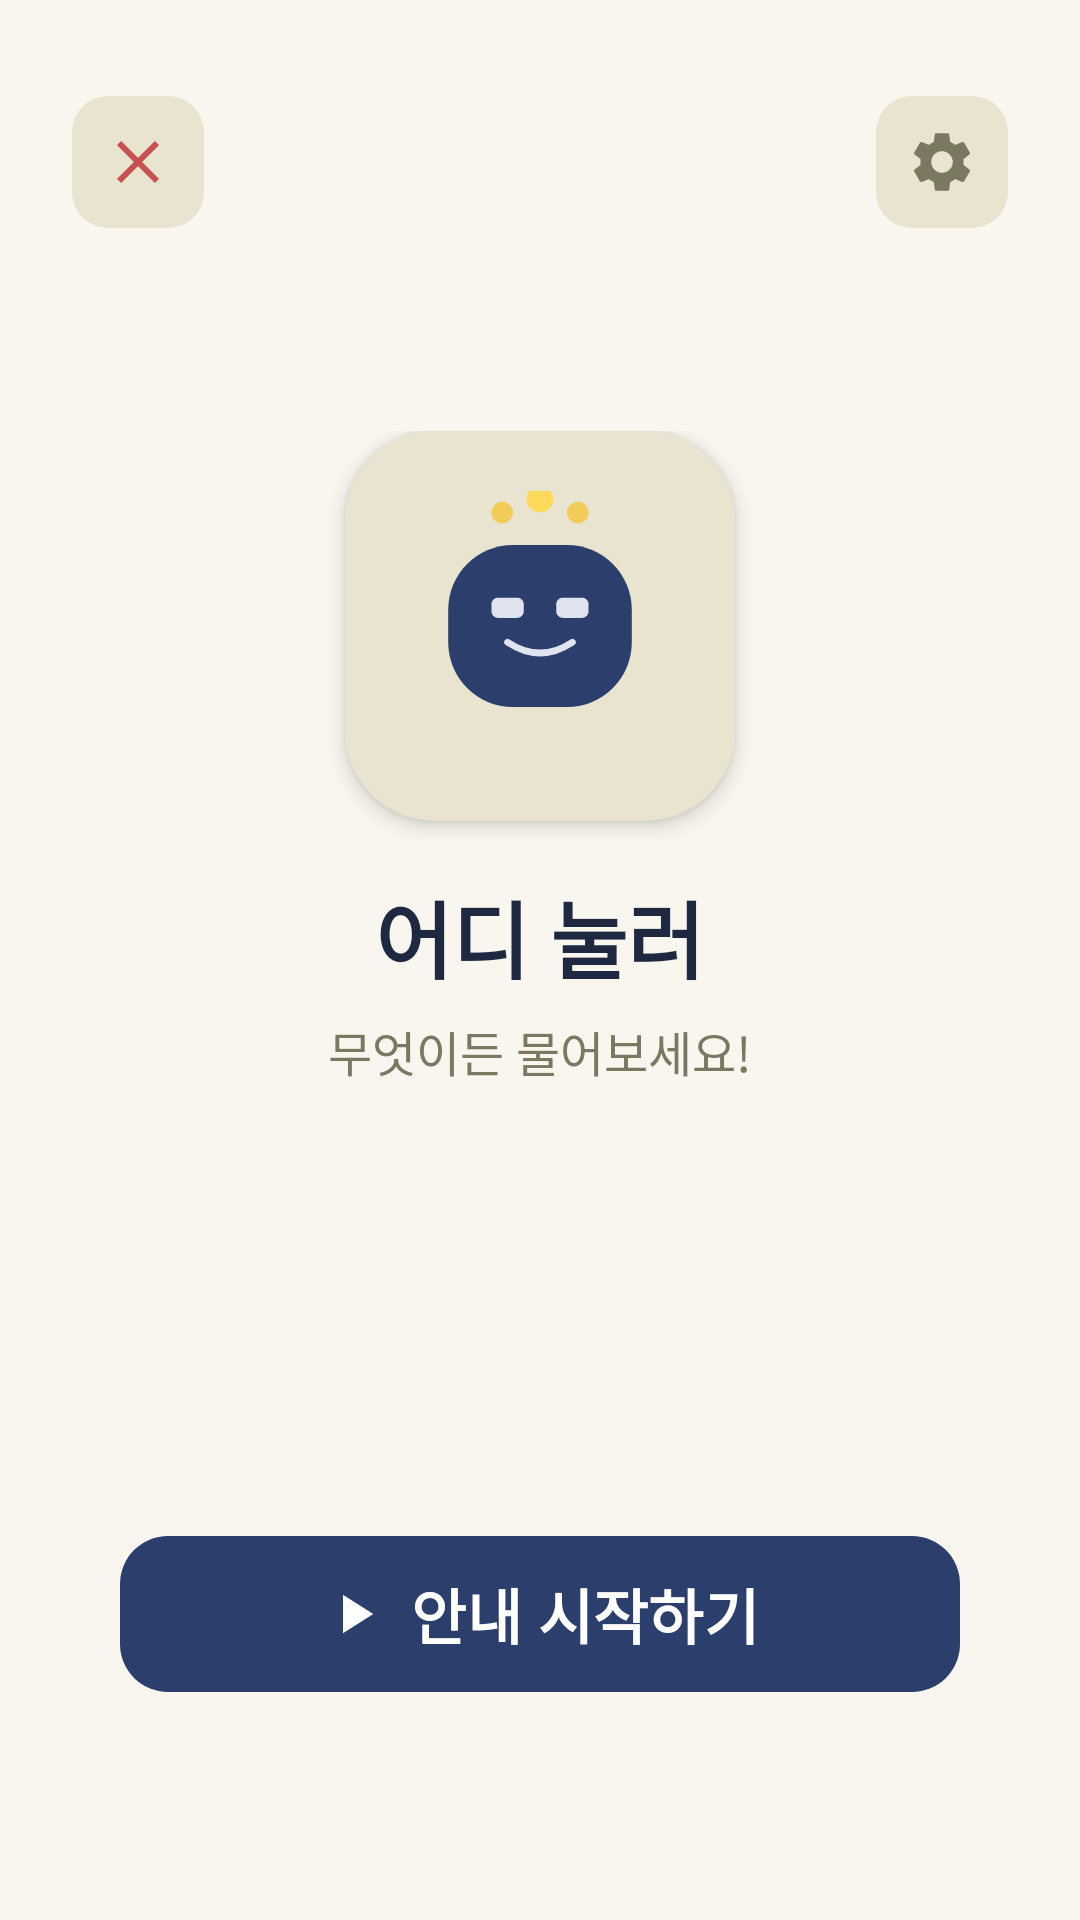

Icons on this 1080 × 1920 Android screen, each with the point to tap as (x=x, y=y):
로봇 아이콘: (x=540, y=599)
설정: (x=942, y=162)
앱 종료하기: (x=138, y=162)
